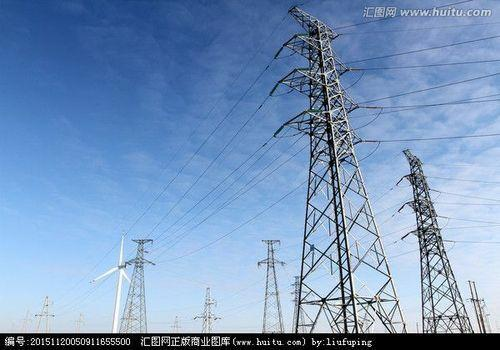power_tower: (279, 5, 409, 337), (394, 144, 474, 337), (117, 230, 162, 338), (250, 235, 285, 336), (194, 284, 224, 334), (30, 292, 57, 333)
